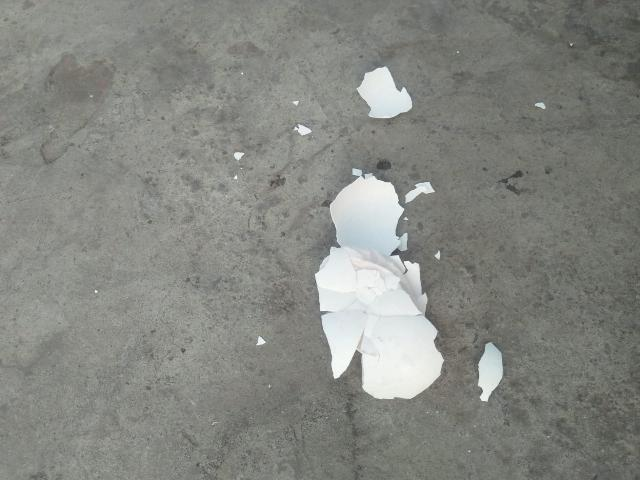Roto: (314, 245, 444, 399), (328, 173, 408, 256), (355, 65, 413, 119), (476, 341, 503, 402)
